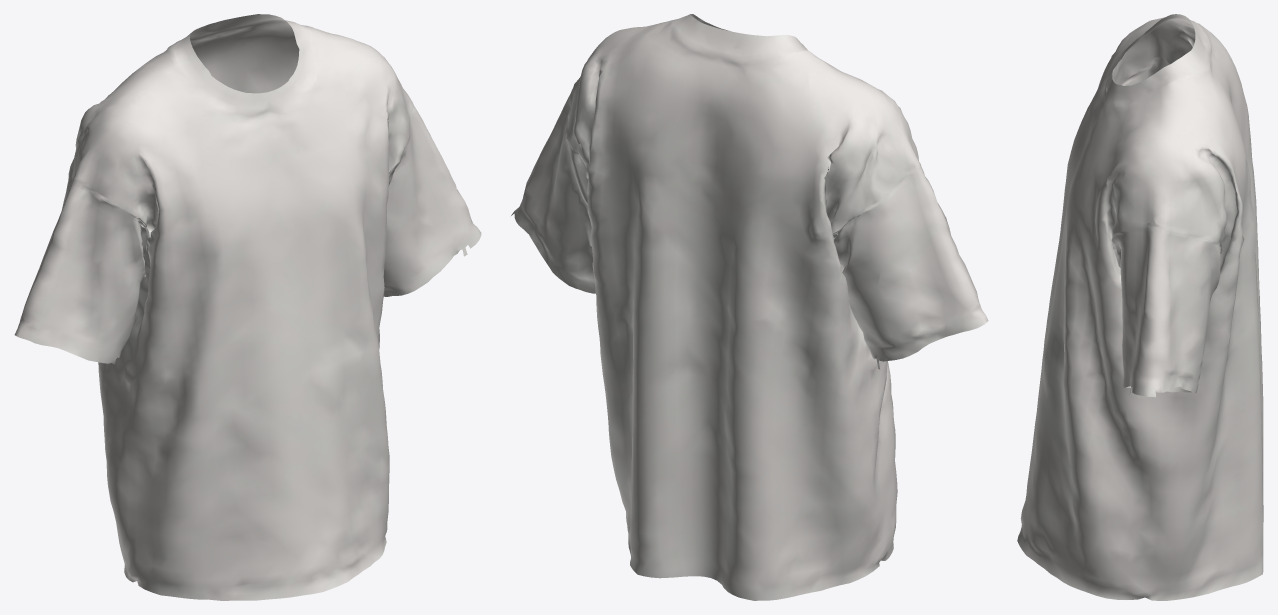
File: camiseta.glb
3 renders of one model, left to right at view 1: azimuth 30°, elevation 25°; view 2: azimuth 150°, elevation 25°; view 3: azimuth 270°, elevation 25°, orthographic. The views are drawn at different scales.
Visible parts, largest first — view 1: Mesh_0; view 2: Mesh_0; view 3: Mesh_0.
Boxes of the visible parts, bbox=[...] form: Mesh_0: bbox=[14, 14, 481, 600]; Mesh_0: bbox=[511, 14, 988, 600]; Mesh_0: bbox=[1017, 14, 1263, 600].
Size of the model in its own units: 0.8833 by 0.9512 by 0.4121.
1 material, 1 textured.
